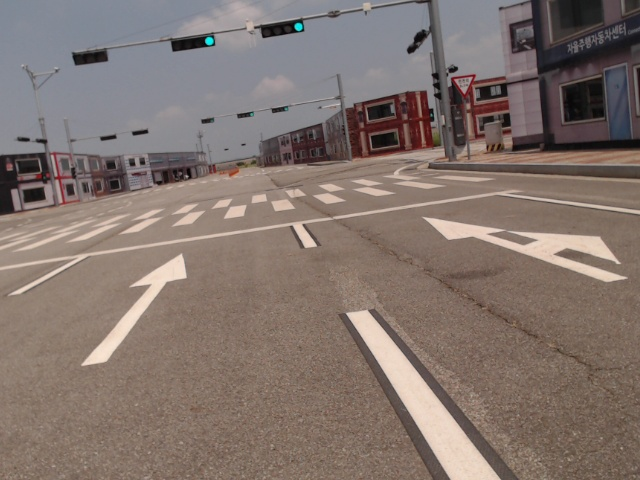straight_green_4: (172, 33, 216, 52), (262, 19, 304, 38), (272, 105, 288, 113), (236, 111, 253, 118)
